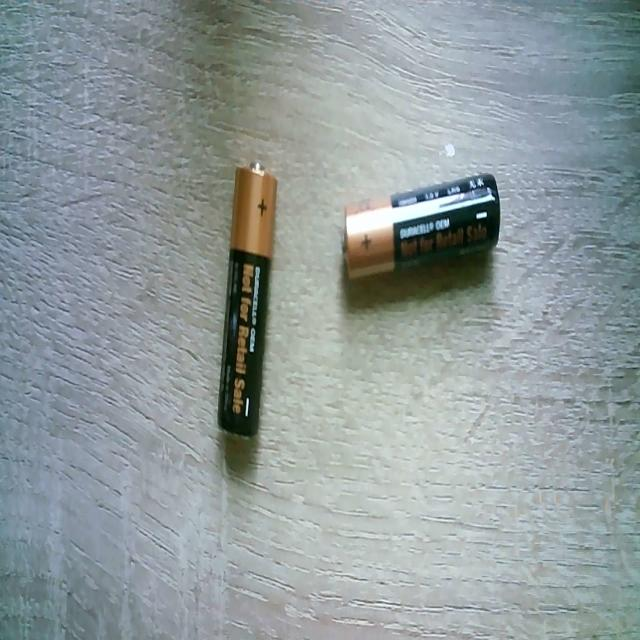AA: (342, 171, 501, 281), (216, 159, 278, 437)
